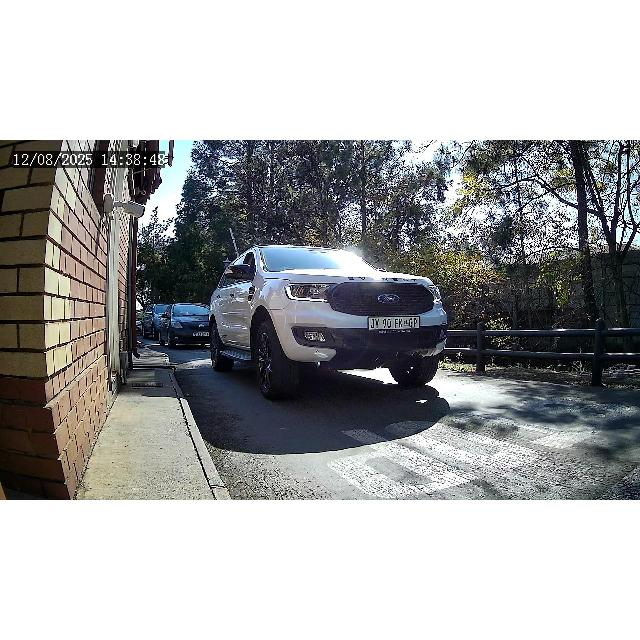car: (208, 244, 448, 404), (155, 303, 211, 349)
plate: (370, 317, 420, 331)
